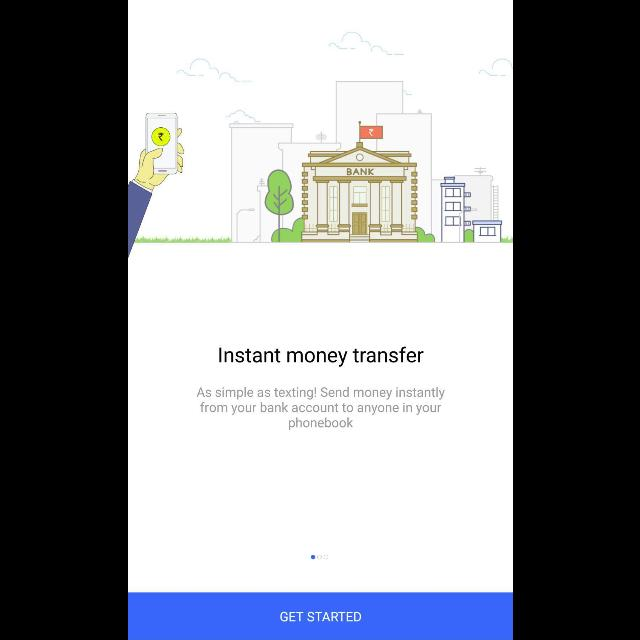image: (128, 32, 512, 256)
pageindicator: (310, 554, 328, 560)
text: (196, 388, 444, 430), (219, 347, 423, 367)
textbutton: (128, 592, 512, 640)
